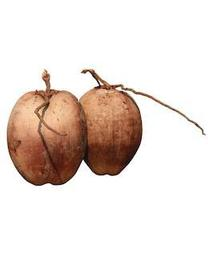coconut: (1, 85, 89, 188), (76, 81, 143, 184)
